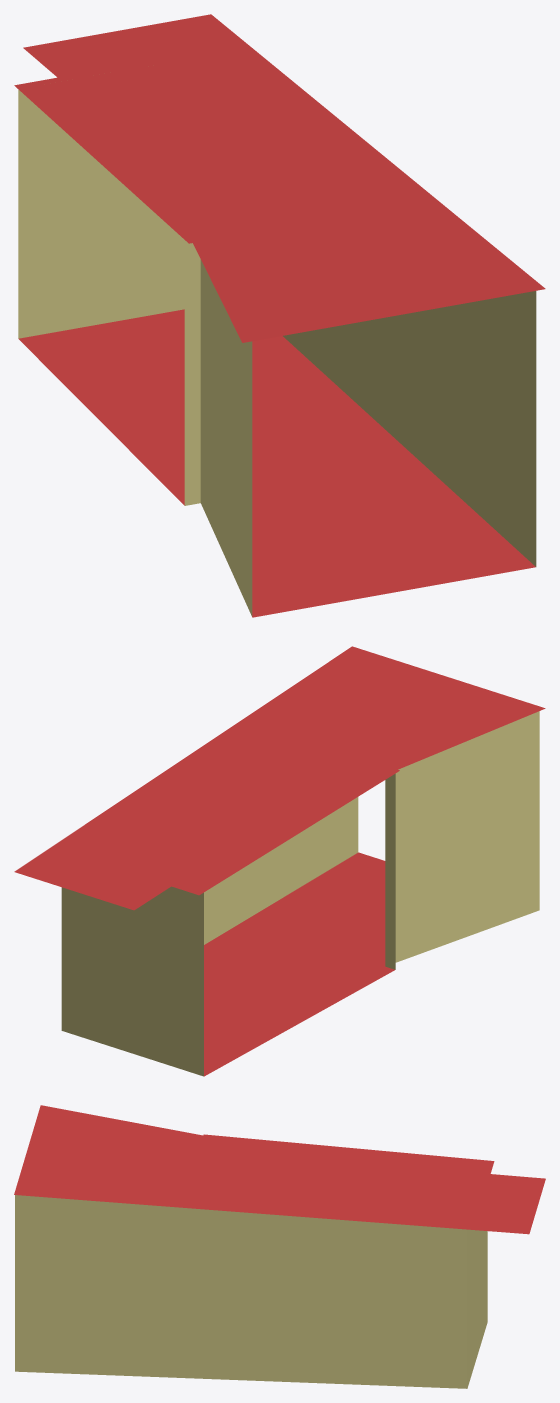
3 renders of one model, top to bottom at view 1: azimuth 30°, elevation 25°; view 2: azimuth 150°, elevation 25°; view 3: azimuth 270°, elevation 25°, orthographic. The views are drawn at different scales.
Size of the model in its own units: 9.32 by 19.16 by 7.14.
